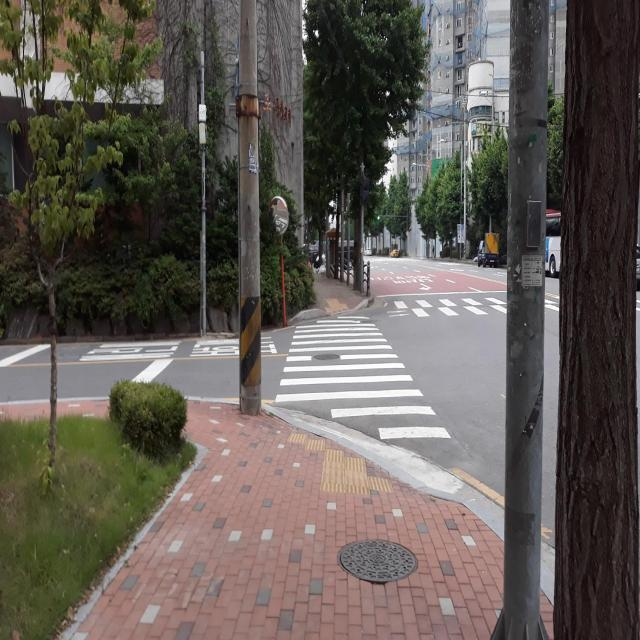횡단보도: (274, 314, 453, 442), (384, 294, 562, 316)
